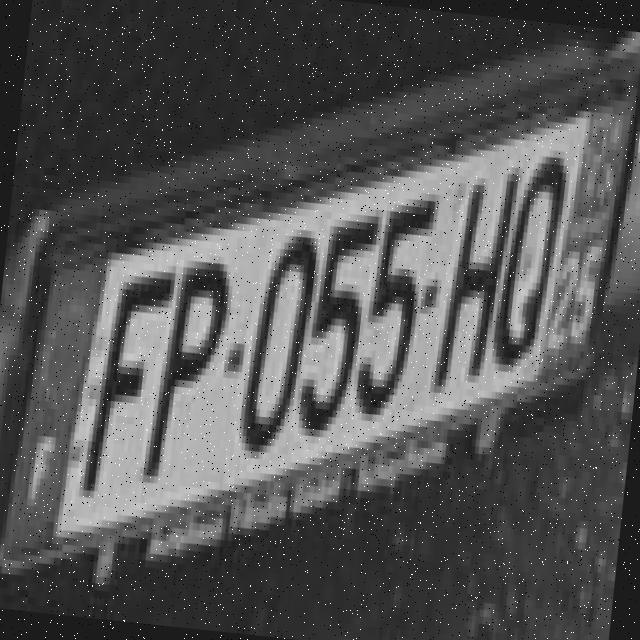EU: (0, 68, 640, 570)
France: (0, 255, 112, 557)
